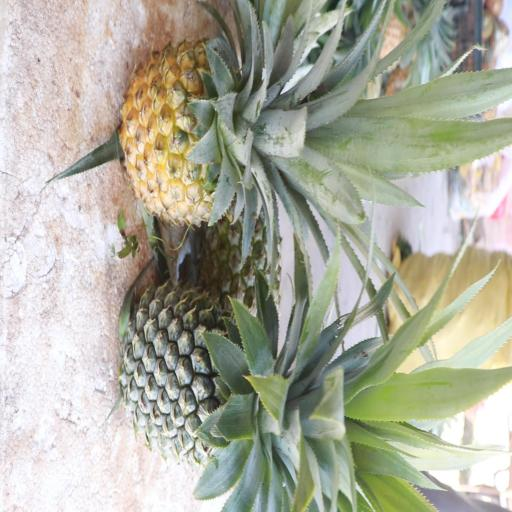Pineapple - v8 v1: (113, 33, 365, 239)
